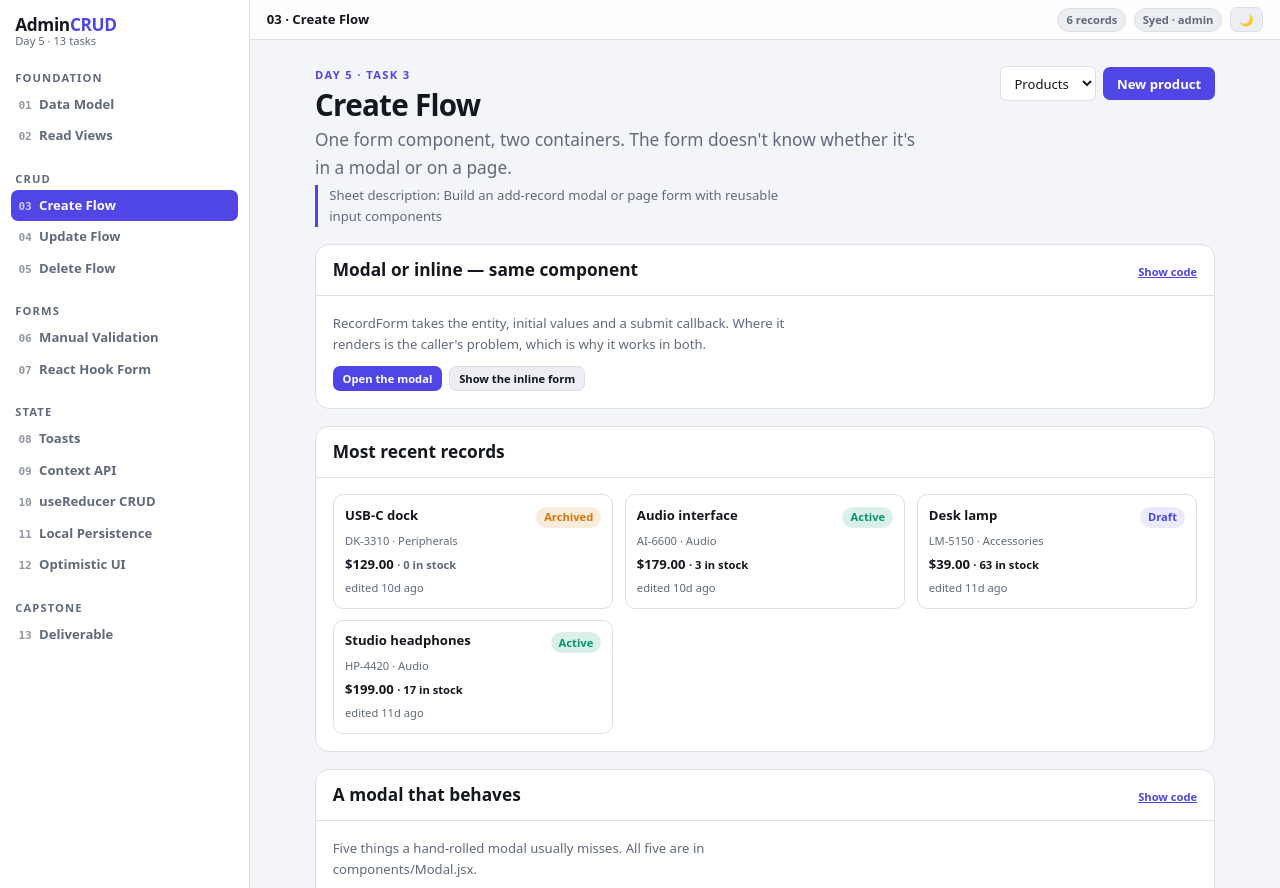
Test case: task 3 — create flow › blocks an invalid submit and reports the failing fields
Expected: the text "Day 5 · Task 3" is shown, [315,67,410,82]
Click the button "Show the inline form".
click(517, 378)  # box [449,366,585,391]
(page scrolled)
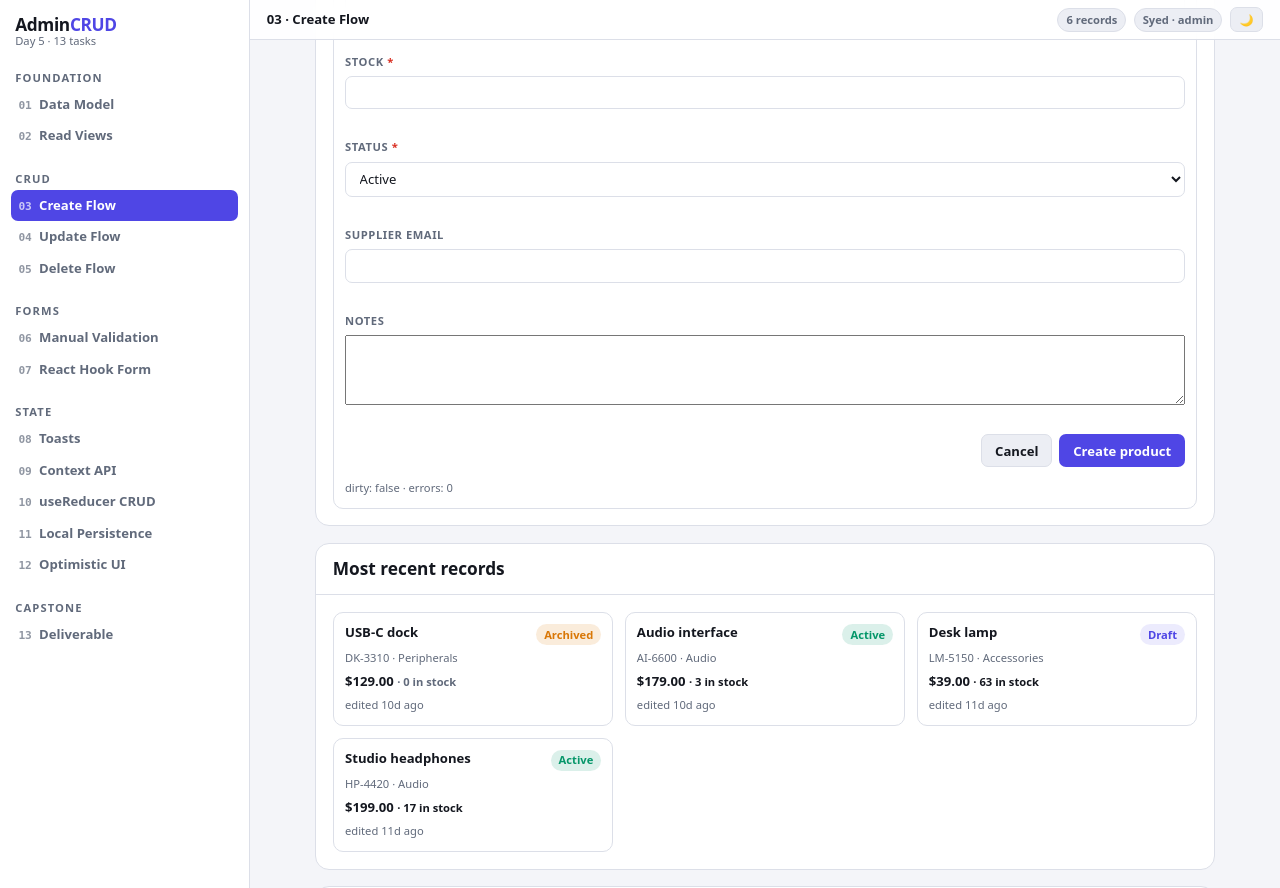
Click the button "Create product".
click(1122, 451)  # box [1059,434,1185,467]
(page scrolled)
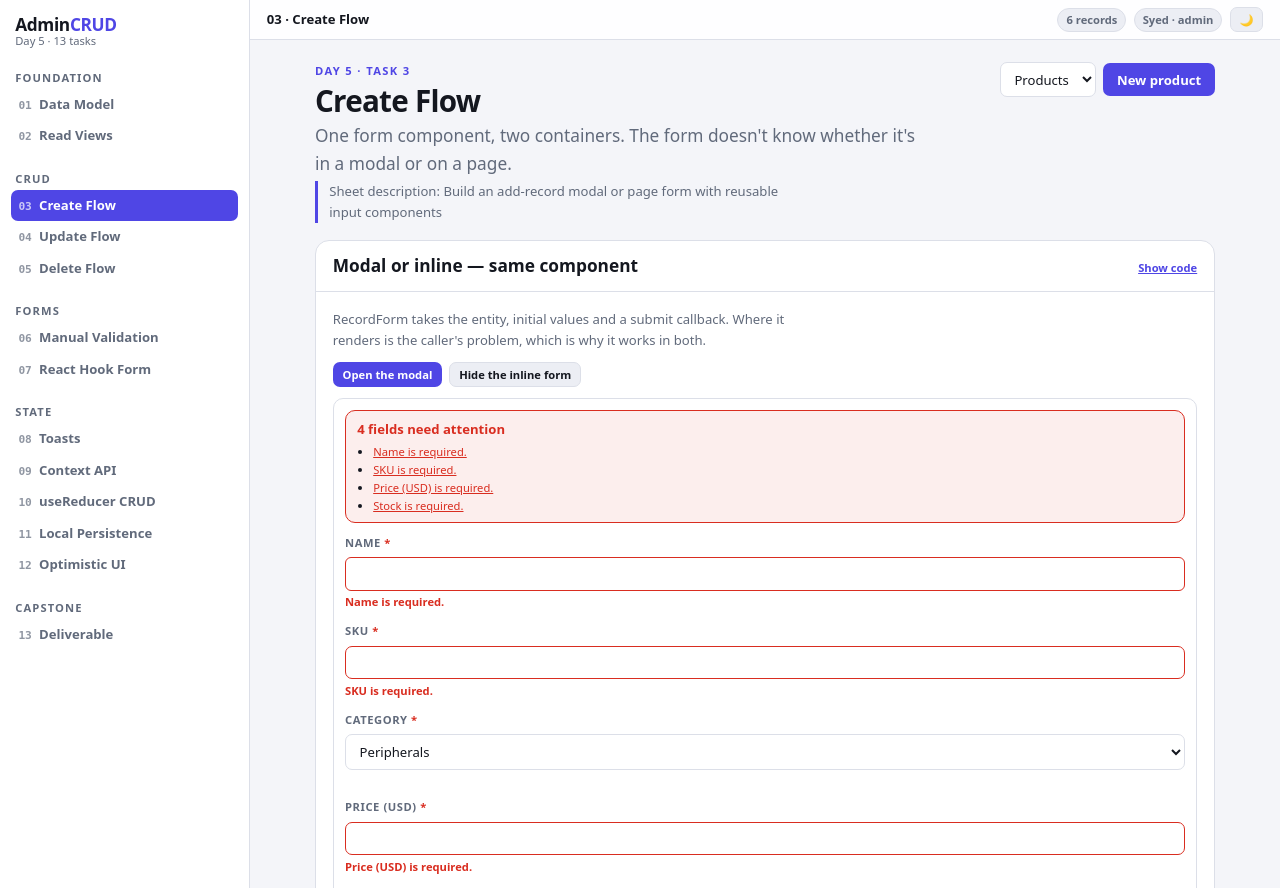
Expected: the text "4 fields need attention" is shown, [357,420,505,438]
